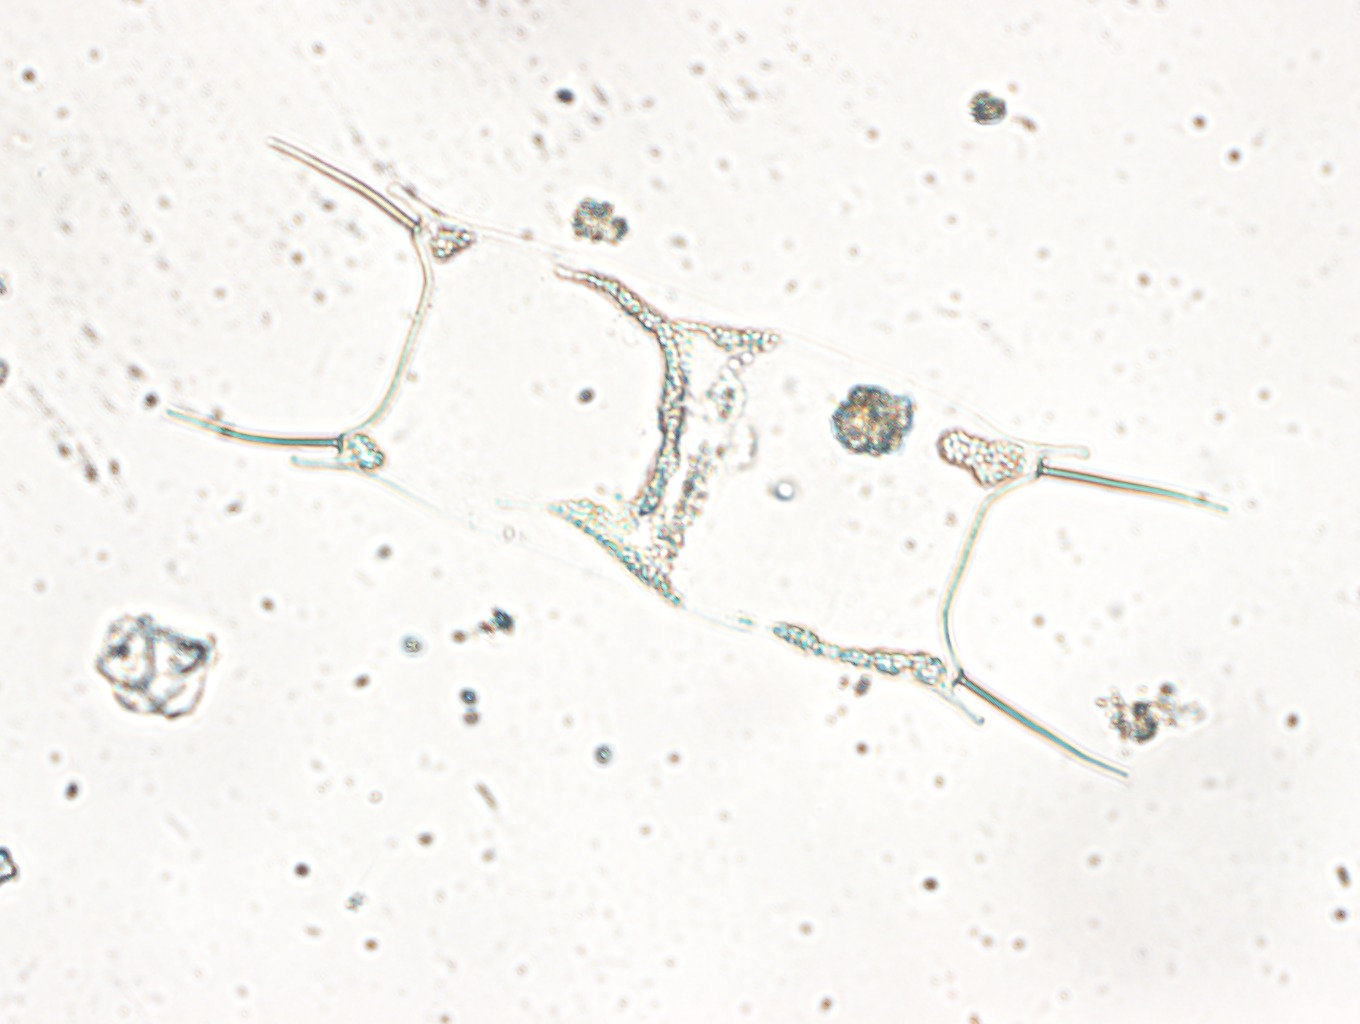biddulphia: (155, 136, 1229, 778)
